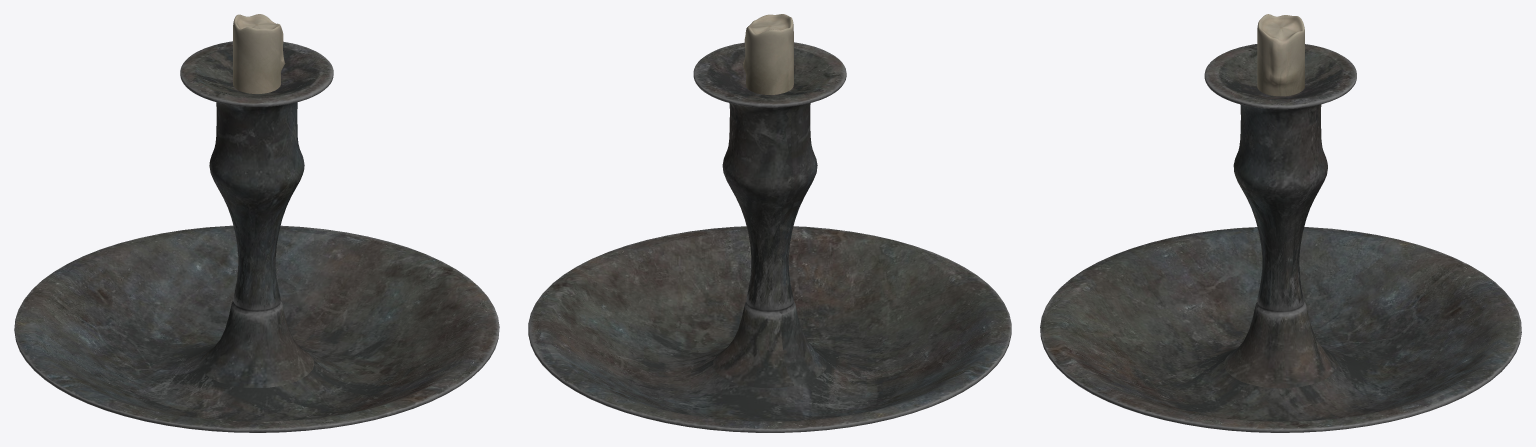
Rendered from candle.fbx.
3 views of the same model, side by side, from view 1: azimuth 30°, elevation 25°; view 2: azimuth 150°, elevation 25°; view 3: azimuth 270°, elevation 25° (orthographic).
Parts seen in each view (by area): view 1: candlestick, candle01; view 2: candlestick, candle01; view 3: candlestick, candle01.
Boxes of the visible parts, box(x1,y1,x2,y2) form: candlestick: box(14, 41, 499, 432); candle01: box(233, 14, 285, 93); candlestick: box(528, 42, 1011, 432); candle01: box(743, 14, 793, 94); candlestick: box(1040, 44, 1521, 432); candle01: box(1257, 14, 1304, 96).
Bounding box in the file's own units: 0.3 × 0.2537 × 0.3.
